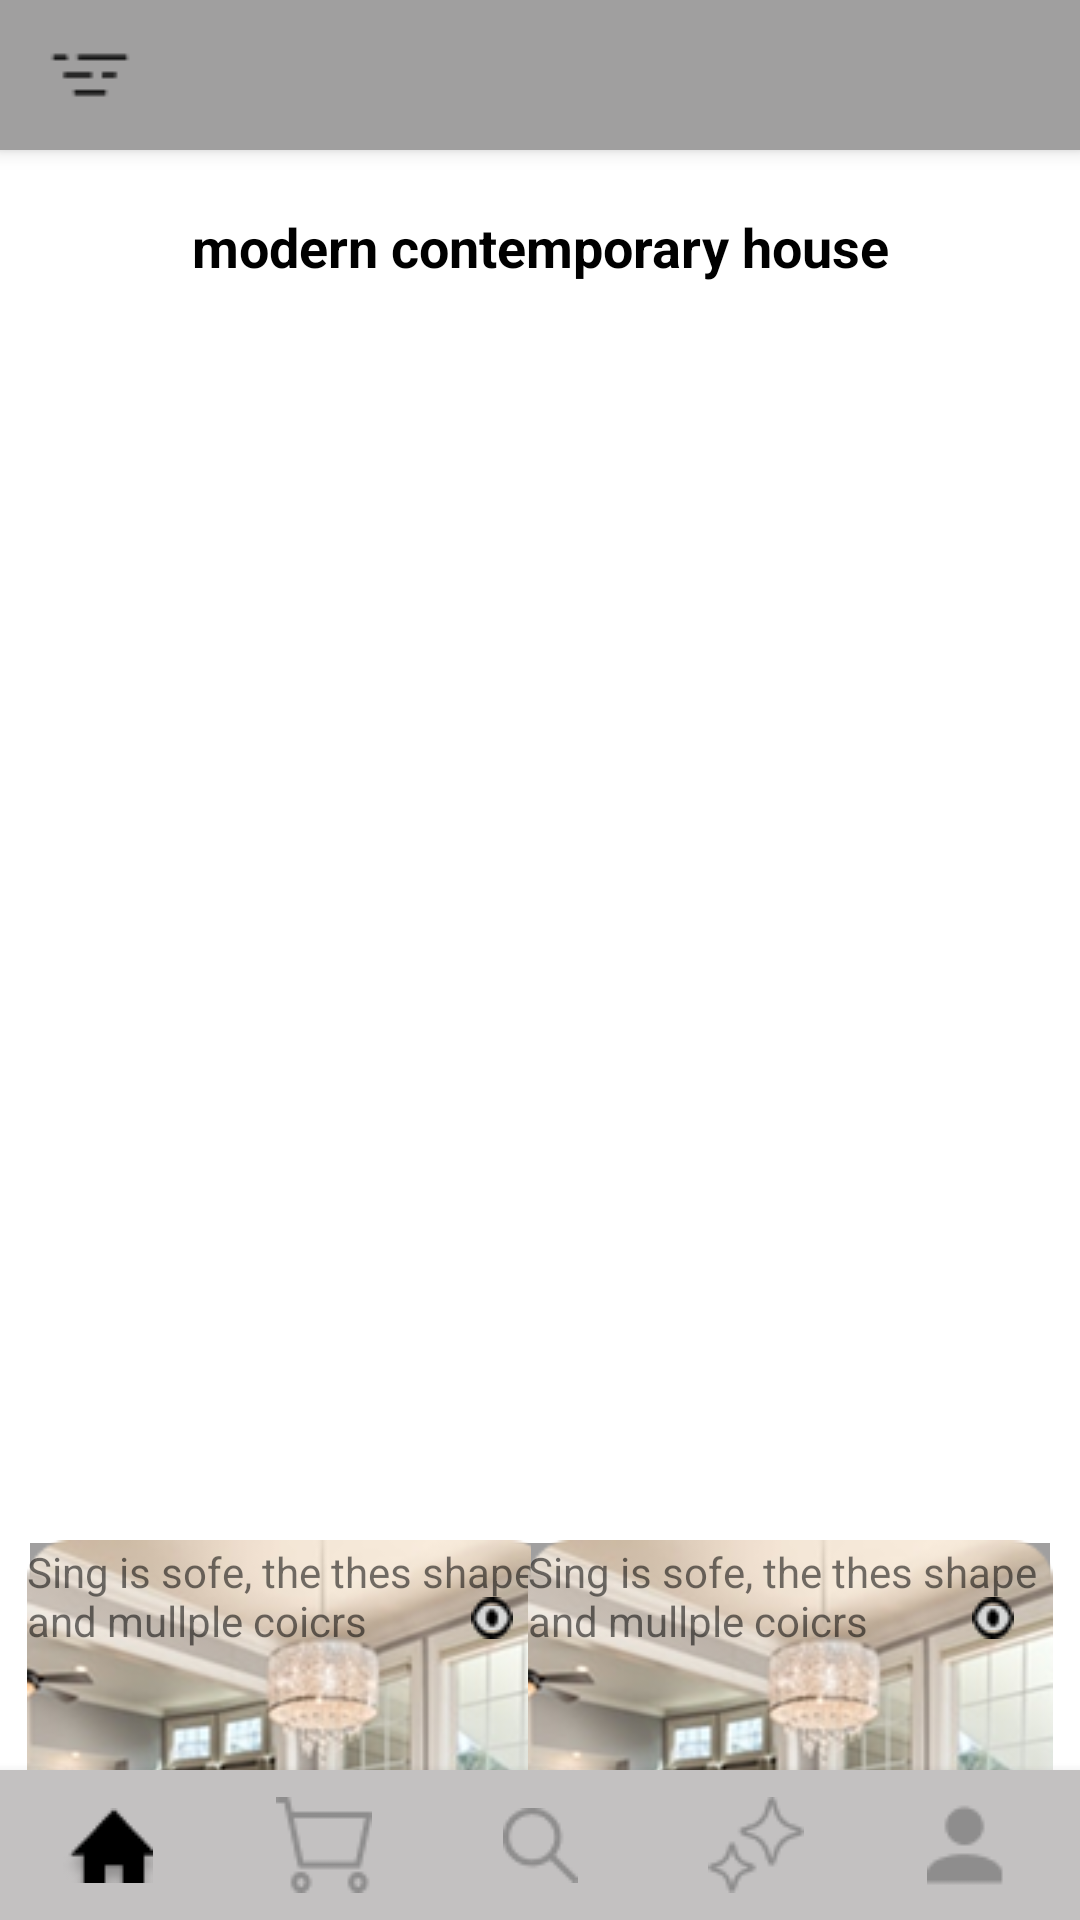

Icon click points for this 1080 × 1920 phone screenshot, format (x,y):
watch: (492,1618), (993,1618)
